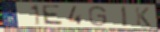1: (30, 4, 42, 26)
4: (68, 5, 84, 26)
E: (42, 4, 65, 26)
G: (88, 5, 109, 27)
I: (121, 5, 130, 28)
K: (134, 6, 153, 28)
